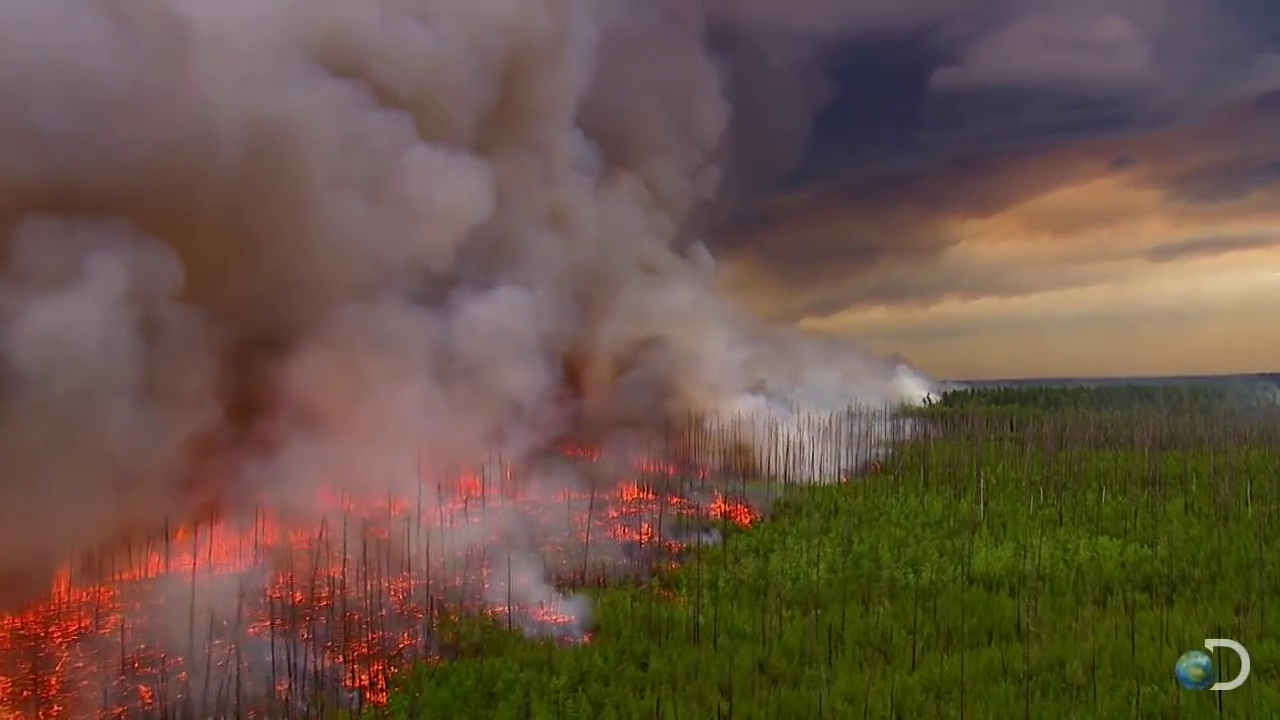forest_fire: (0, 431, 794, 719)
